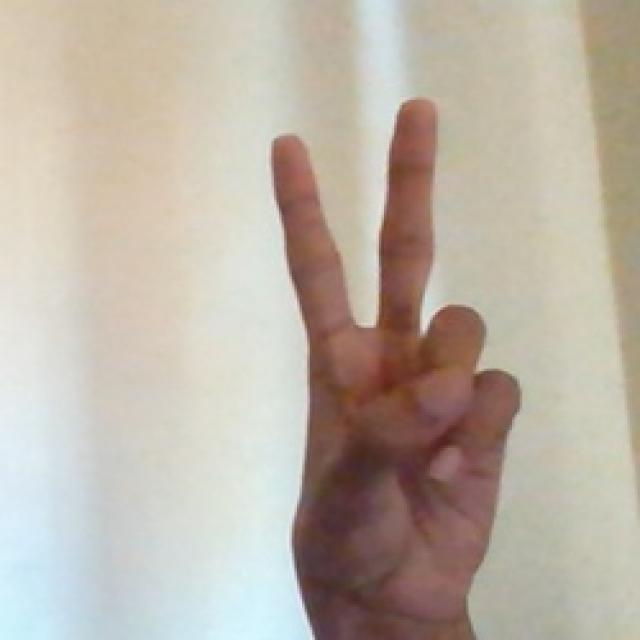Numeric-2: (263, 84, 531, 632)
